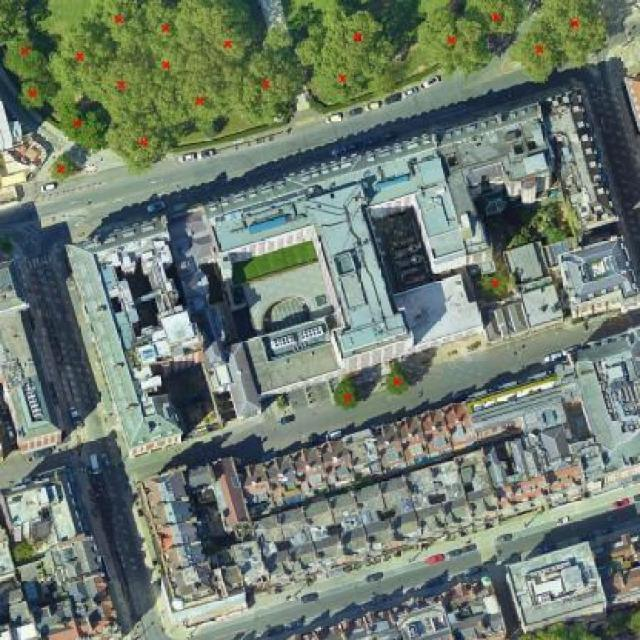tree: (221, 41, 308, 132), (39, 20, 118, 102), (177, 0, 264, 72), (412, 7, 492, 78), (295, 22, 363, 104), (533, 0, 615, 66), (85, 53, 162, 119), (98, 116, 179, 176), (336, 12, 399, 80), (40, 92, 108, 153), (502, 22, 562, 90), (112, 0, 186, 49), (180, 76, 232, 141), (460, 0, 528, 48), (138, 44, 187, 110), (3, 24, 49, 85), (79, 0, 146, 40), (505, 617, 618, 640), (0, 0, 52, 40), (375, 352, 416, 400), (6, 79, 55, 119), (463, 266, 523, 297), (326, 373, 365, 413), (38, 157, 82, 189), (38, 155, 81, 183), (537, 220, 569, 249)
